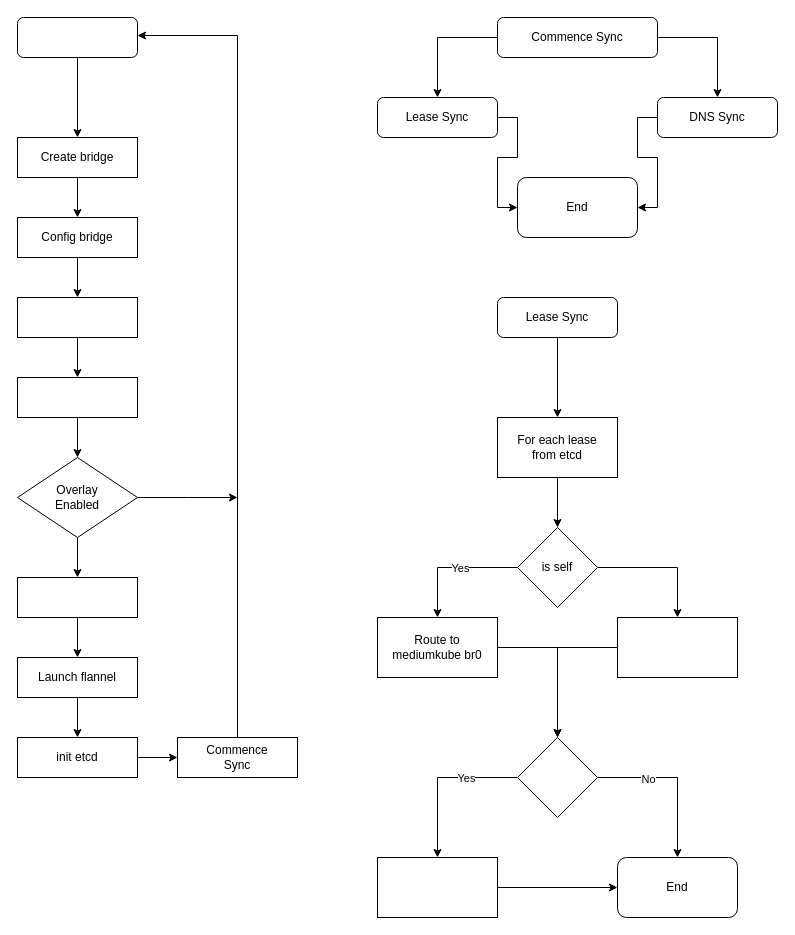
Some shapes in this 795 by 935 pixel diagram are drawn without their labels. Each missing label, with the centre of its shape:
"Config iptables" belongs at point (77, 317).
"Delete route" belongs at point (437, 887).
"is expired" belongs at point (557, 777).
"Launch dnsmasq" belongs at point (77, 397).
"Launch etcd" belongs at point (77, 597).
"Mesh Loop" belongs at point (77, 37).
"Route to flannel.1" belongs at point (677, 647).
